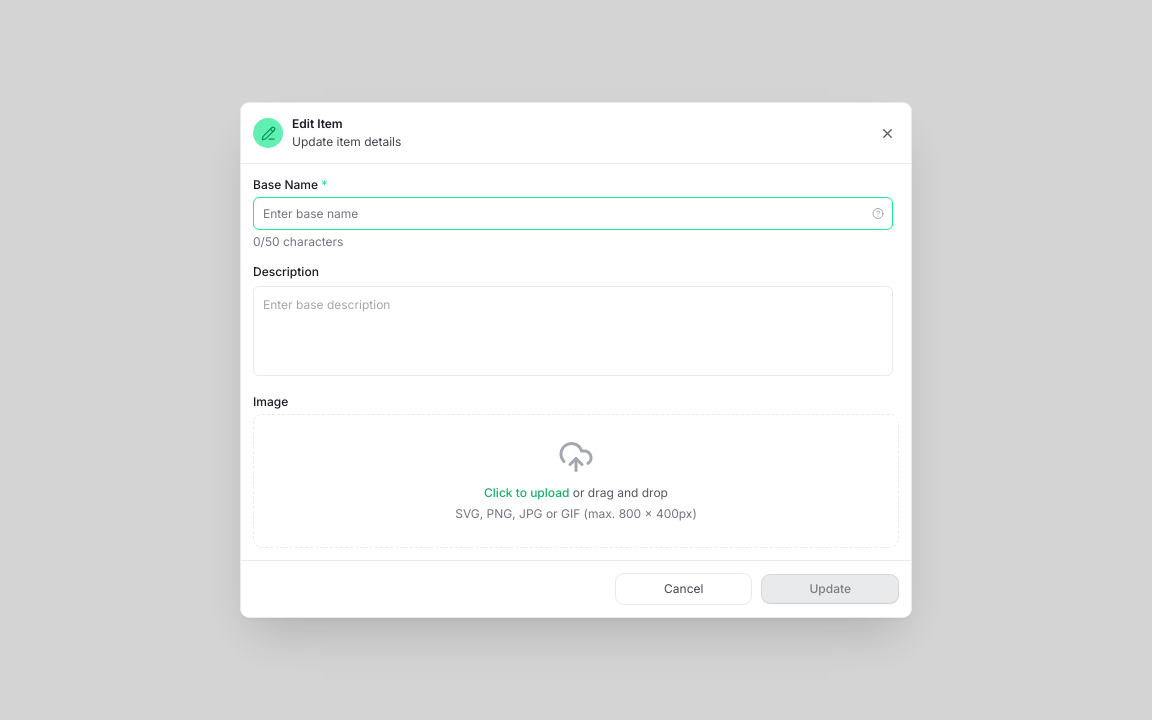
Scenario: EditItemModal › form validation for base › shows validation error for duplicate base name
The image size is (1152, 720).
Step 1. Type "Existing Base" into the field labelled "Base Name *" → (573, 214), box [253,197,892,230]
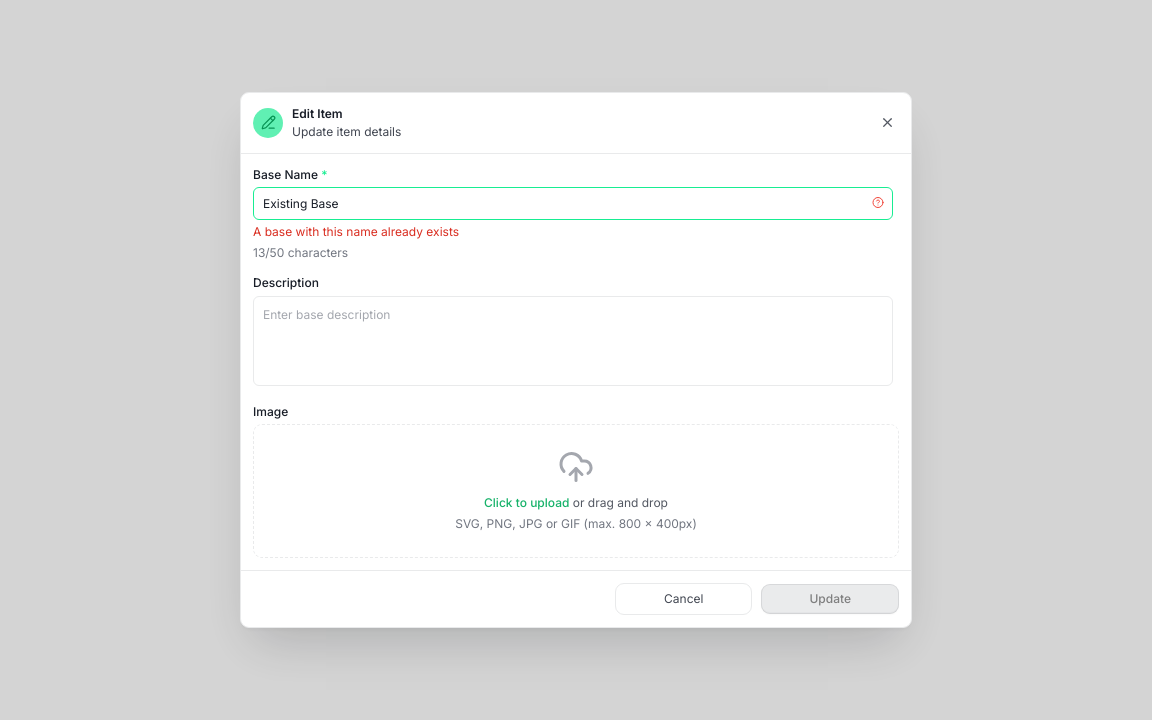
expect the text "A base with this name already exists" is shown: met, box [253,224,459,239]
